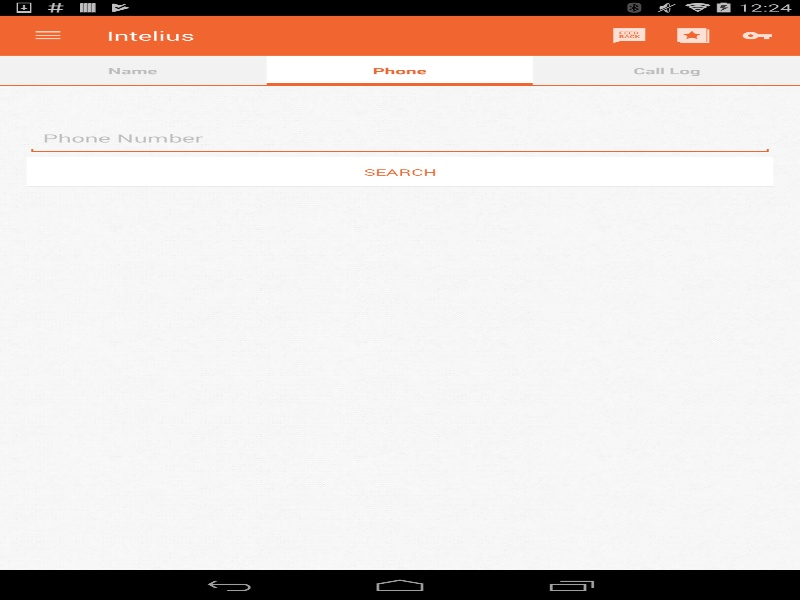Button: (26, 157, 773, 187), (10, 15, 85, 55)
Input: (26, 122, 773, 154)
